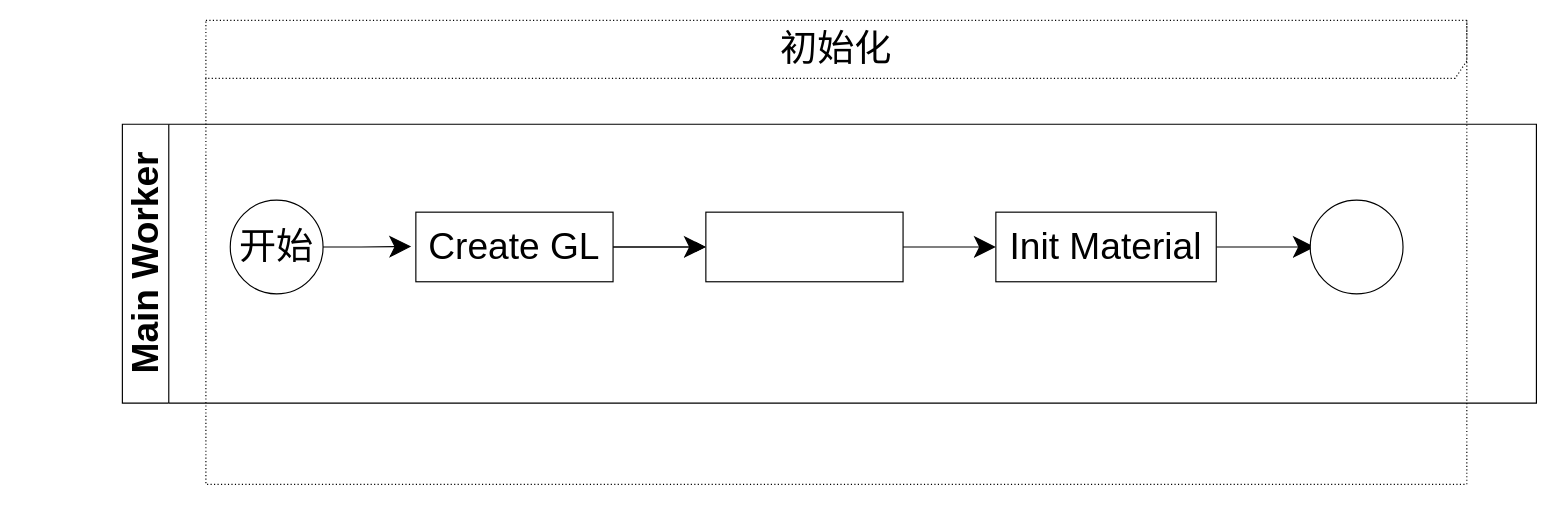
Some shapes in this 1557 by 505 pixel diagram are drawn without their labels. The centre of each missing label's shape, as x and y in pixels:
"Init VBO" belongs at pixel 804 246.
"结束" belongs at pixel 1356 246.
